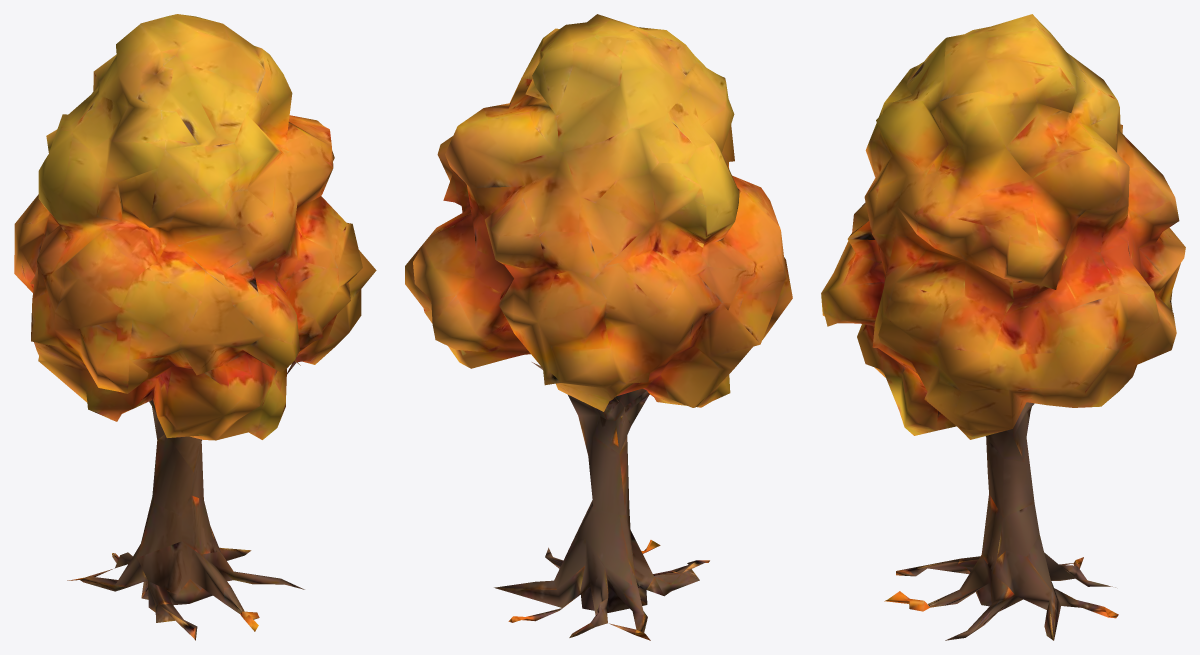
File: autumn_tree.glb
The picture shows the model from 3 angles, left to right: view 1: azimuth 30°, elevation 25°; view 2: azimuth 150°, elevation 25°; view 3: azimuth 270°, elevation 25°; orthographic projection.
Parts seen in each view (by area): view 1: 0; view 2: 0; view 3: 0.
Boxes of the visible parts, box(x1,y1,x2,y2) form: 0: box(14, 14, 376, 640); 0: box(405, 14, 792, 640); 0: box(821, 14, 1185, 640).
Bounding box in the file's own units: 1.11 × 1.89 × 1.1.
Materials: 1 (1 with a texture image).
